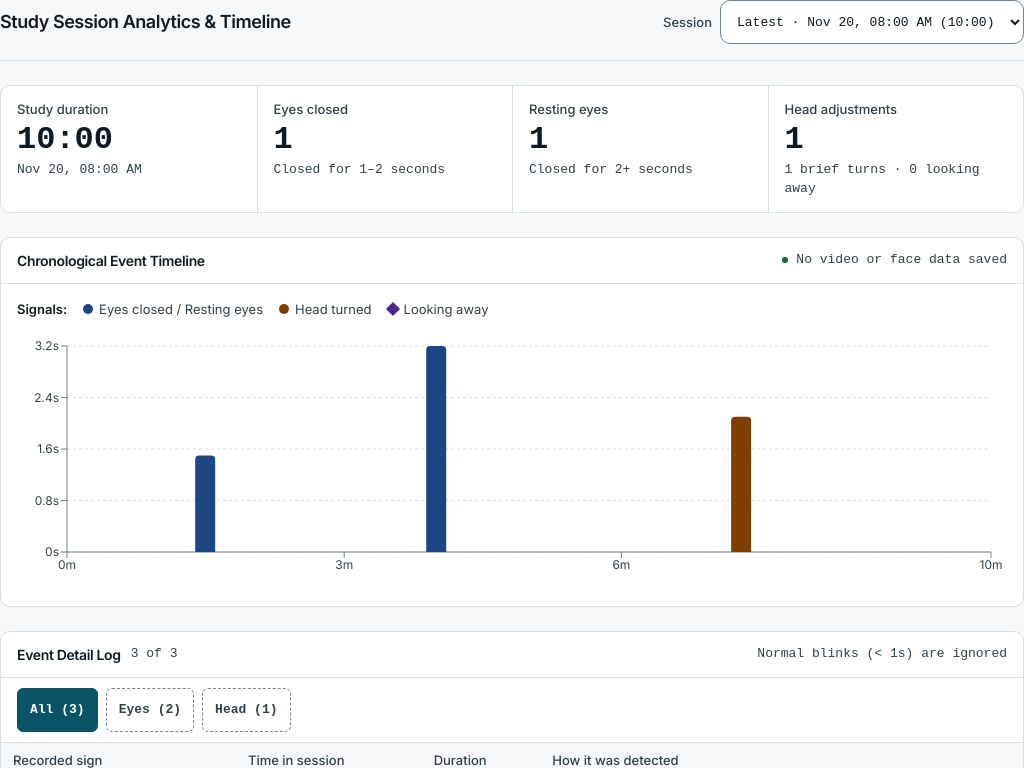
Test: SessionSummaryView Component › displays the latest saved session from database/history and allows switching sessions
Check: the text "10:00" is shown, box [17,121,113,158]
Check: the text "3 of 3" is shown, box [131,645,177,664]
Switch to the older saved session via selector
Select "Nov 19, 02:00 PM (05:00)" in the dropdown named "Select study session to inspect" at (872, 22), box [720,0,1023,44]
(page scrolled)
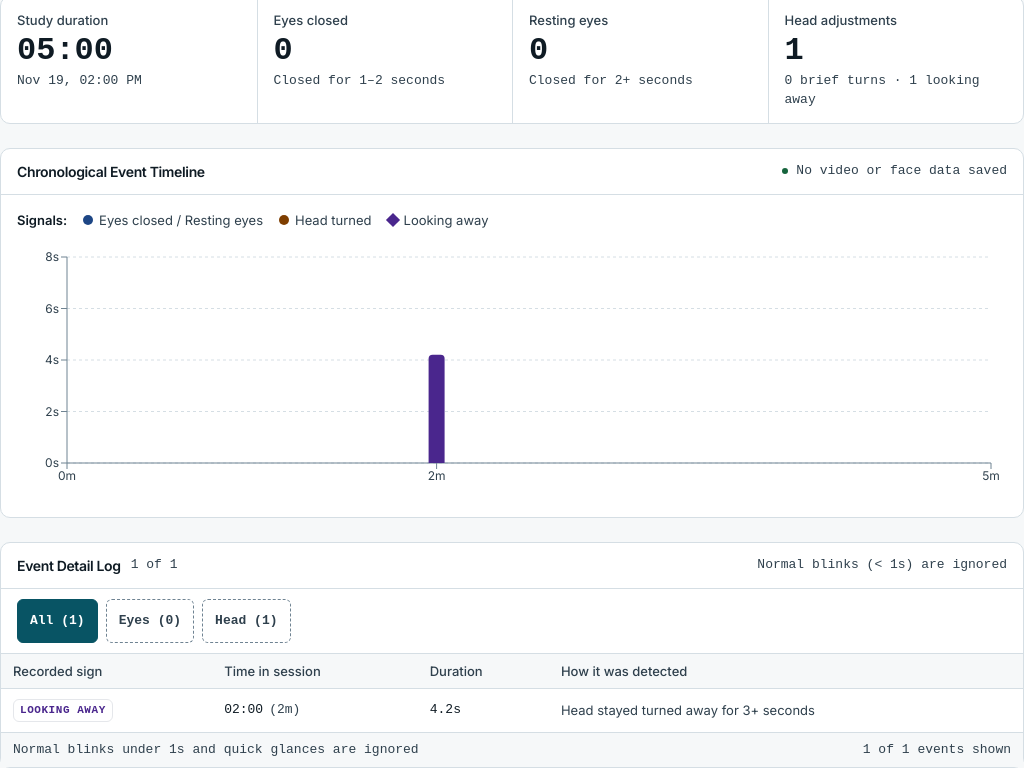
Check: the text "05:00" is shown, box [17,32,113,69]
Check: the text "1 of 1" is shown, box [131,556,177,574]
Check: the text "4.2s" is shown, box [418,689,549,732]
